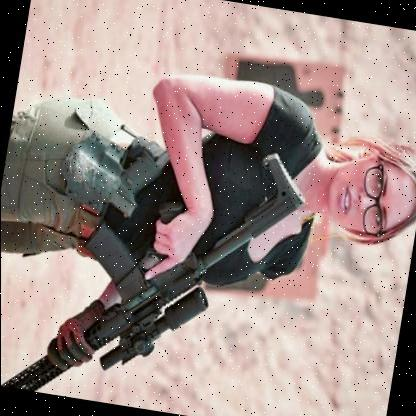rifle: (9, 119, 321, 416)
